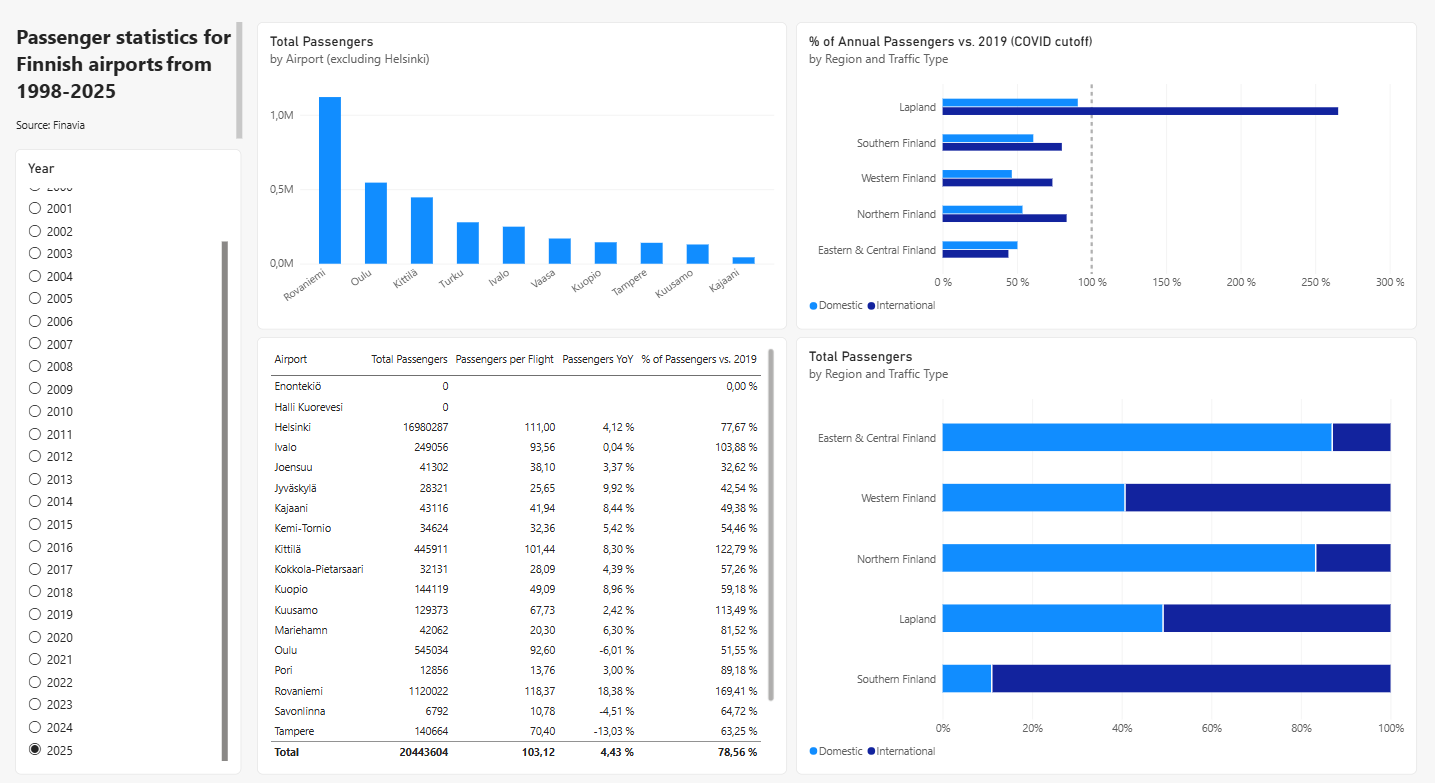

The dashboard page shown, as its layout file describes it:
{"tool":"powerbi","page":{"name":"Airport Data","canvas":[1920,1080],"ordinal":1},"visuals":[{"type":"clusteredBarChart","fields":{"Category":["dim_Airport.Region Hierarchy.Region","dim_Airport.Region Hierarchy.Airport"],"Series":["dim_TrafficType.TrafficType"],"Y":["_Measures1.Recovery vs. 2019"]},"box":[1060.7,62.7,825.8,408.5],"z":0},{"type":"listSlicer","fields":{"Values":["dim_Date.Year"]},"box":[21.9,232,300.5,831.6],"z":1},{"type":"hundredPercentStackedBarChart","fields":{"Category":["dim_Airport.Region Hierarchy.Region","dim_Airport.Region Hierarchy.Airport"],"Series":["dim_TrafficType.TrafficType"],"Y":["_Measures1.Total Passengers"]},"box":[1060.7,481.5,825.8,582.1],"z":2},{"type":"tableEx","fields":{"Values":["dim_Airport.Airport","_Measures1.Total Passengers","_Measures1.Passengers per Flight","_Measures1.Passengers YoY","_Measures1.Recovery vs. 2019"]},"box":[342.9,481.5,704.7,582.1],"z":3},{"type":"columnChart","fields":{"Category":["dim_Airport.Airport"],"Y":["_Measures1.Total Passengers"]},"box":[342.9,62.7,704.7,408.5],"z":4},{"type":"textbox","box":[22,63,301,169],"z":5}]}

Visuals, with their boxes on the page's 1920x1080 design canvas (x1, y1, x2, y2). These are canvas units, not pixel positions in the 1435x783 screenshot, which may show the page scaled, cropped or inside an application window:
clusteredBarChart - dim_Airport.Region Hierarchy.Region x dim_Airport.Region Hierarchy.Airport: box(1061, 63, 1886, 471)
listSlicer - dim_Date.Year: box(22, 232, 322, 1064)
hundredPercentStackedBarChart - dim_Airport.Region Hierarchy.Region x dim_Airport.Region Hierarchy.Airport: box(1061, 482, 1886, 1064)
tableEx - dim_Airport.Airport x _Measures1.Total Passengers: box(343, 482, 1048, 1064)
columnChart - dim_Airport.Airport x _Measures1.Total Passengers: box(343, 63, 1048, 471)
textbox: box(22, 63, 323, 232)
